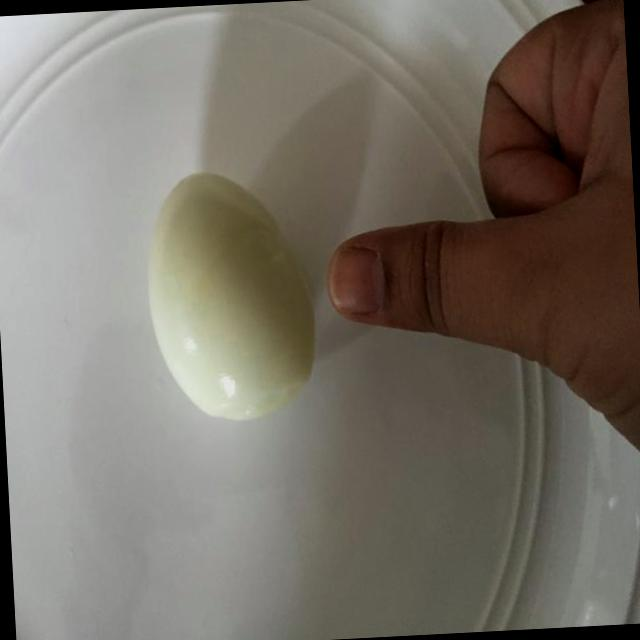Egg: (132, 162, 324, 434)
Finger: (316, 213, 478, 352)
